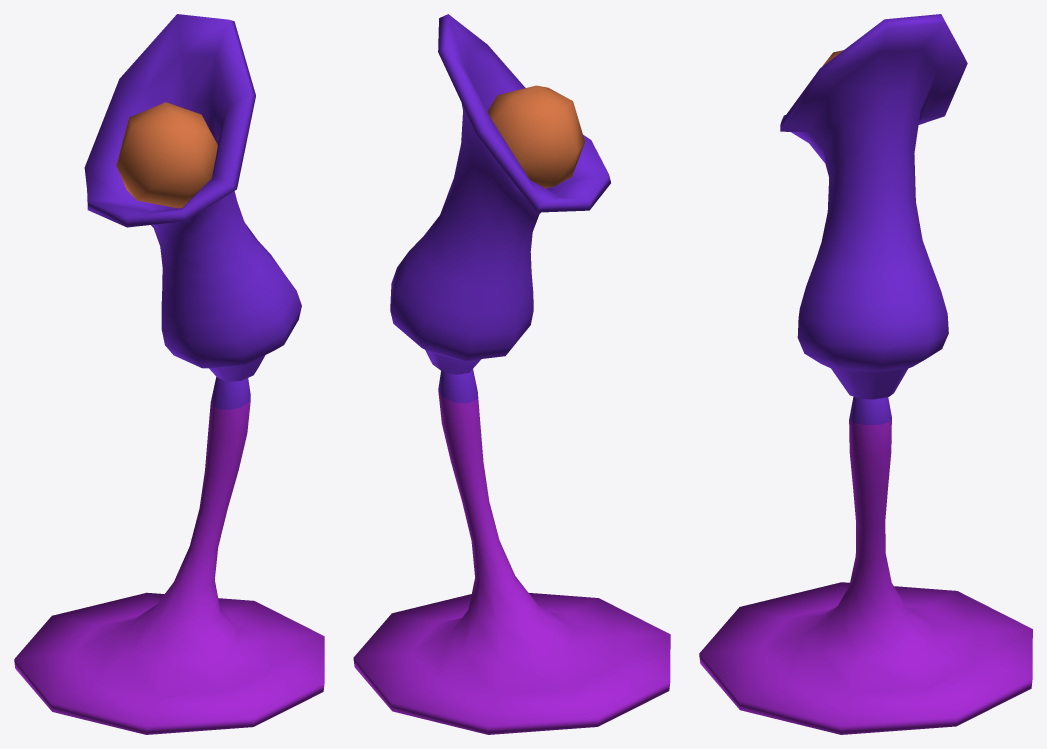
Rendered from FruitPlant3.fbx.
The picture shows the model from 3 angles, left to right: view 1: azimuth 30°, elevation 25°; view 2: azimuth 150°, elevation 25°; view 3: azimuth 270°, elevation 25°; orthographic projection. The views are drawn at different scales.
Parts seen in each view (by area): view 1: FruitPlant 3, Fruit; view 2: FruitPlant 3, Fruit; view 3: FruitPlant 3.
Boxes of the visible parts, box(x1,y1,x2,y2) form: FruitPlant 3: box(14, 14, 324, 734); Fruit: box(116, 102, 217, 208); FruitPlant 3: box(353, 14, 670, 734); Fruit: box(487, 85, 584, 188); FruitPlant 3: box(699, 14, 1032, 734).
Size of the model in its own units: 50.72 by 112 by 49.96.
